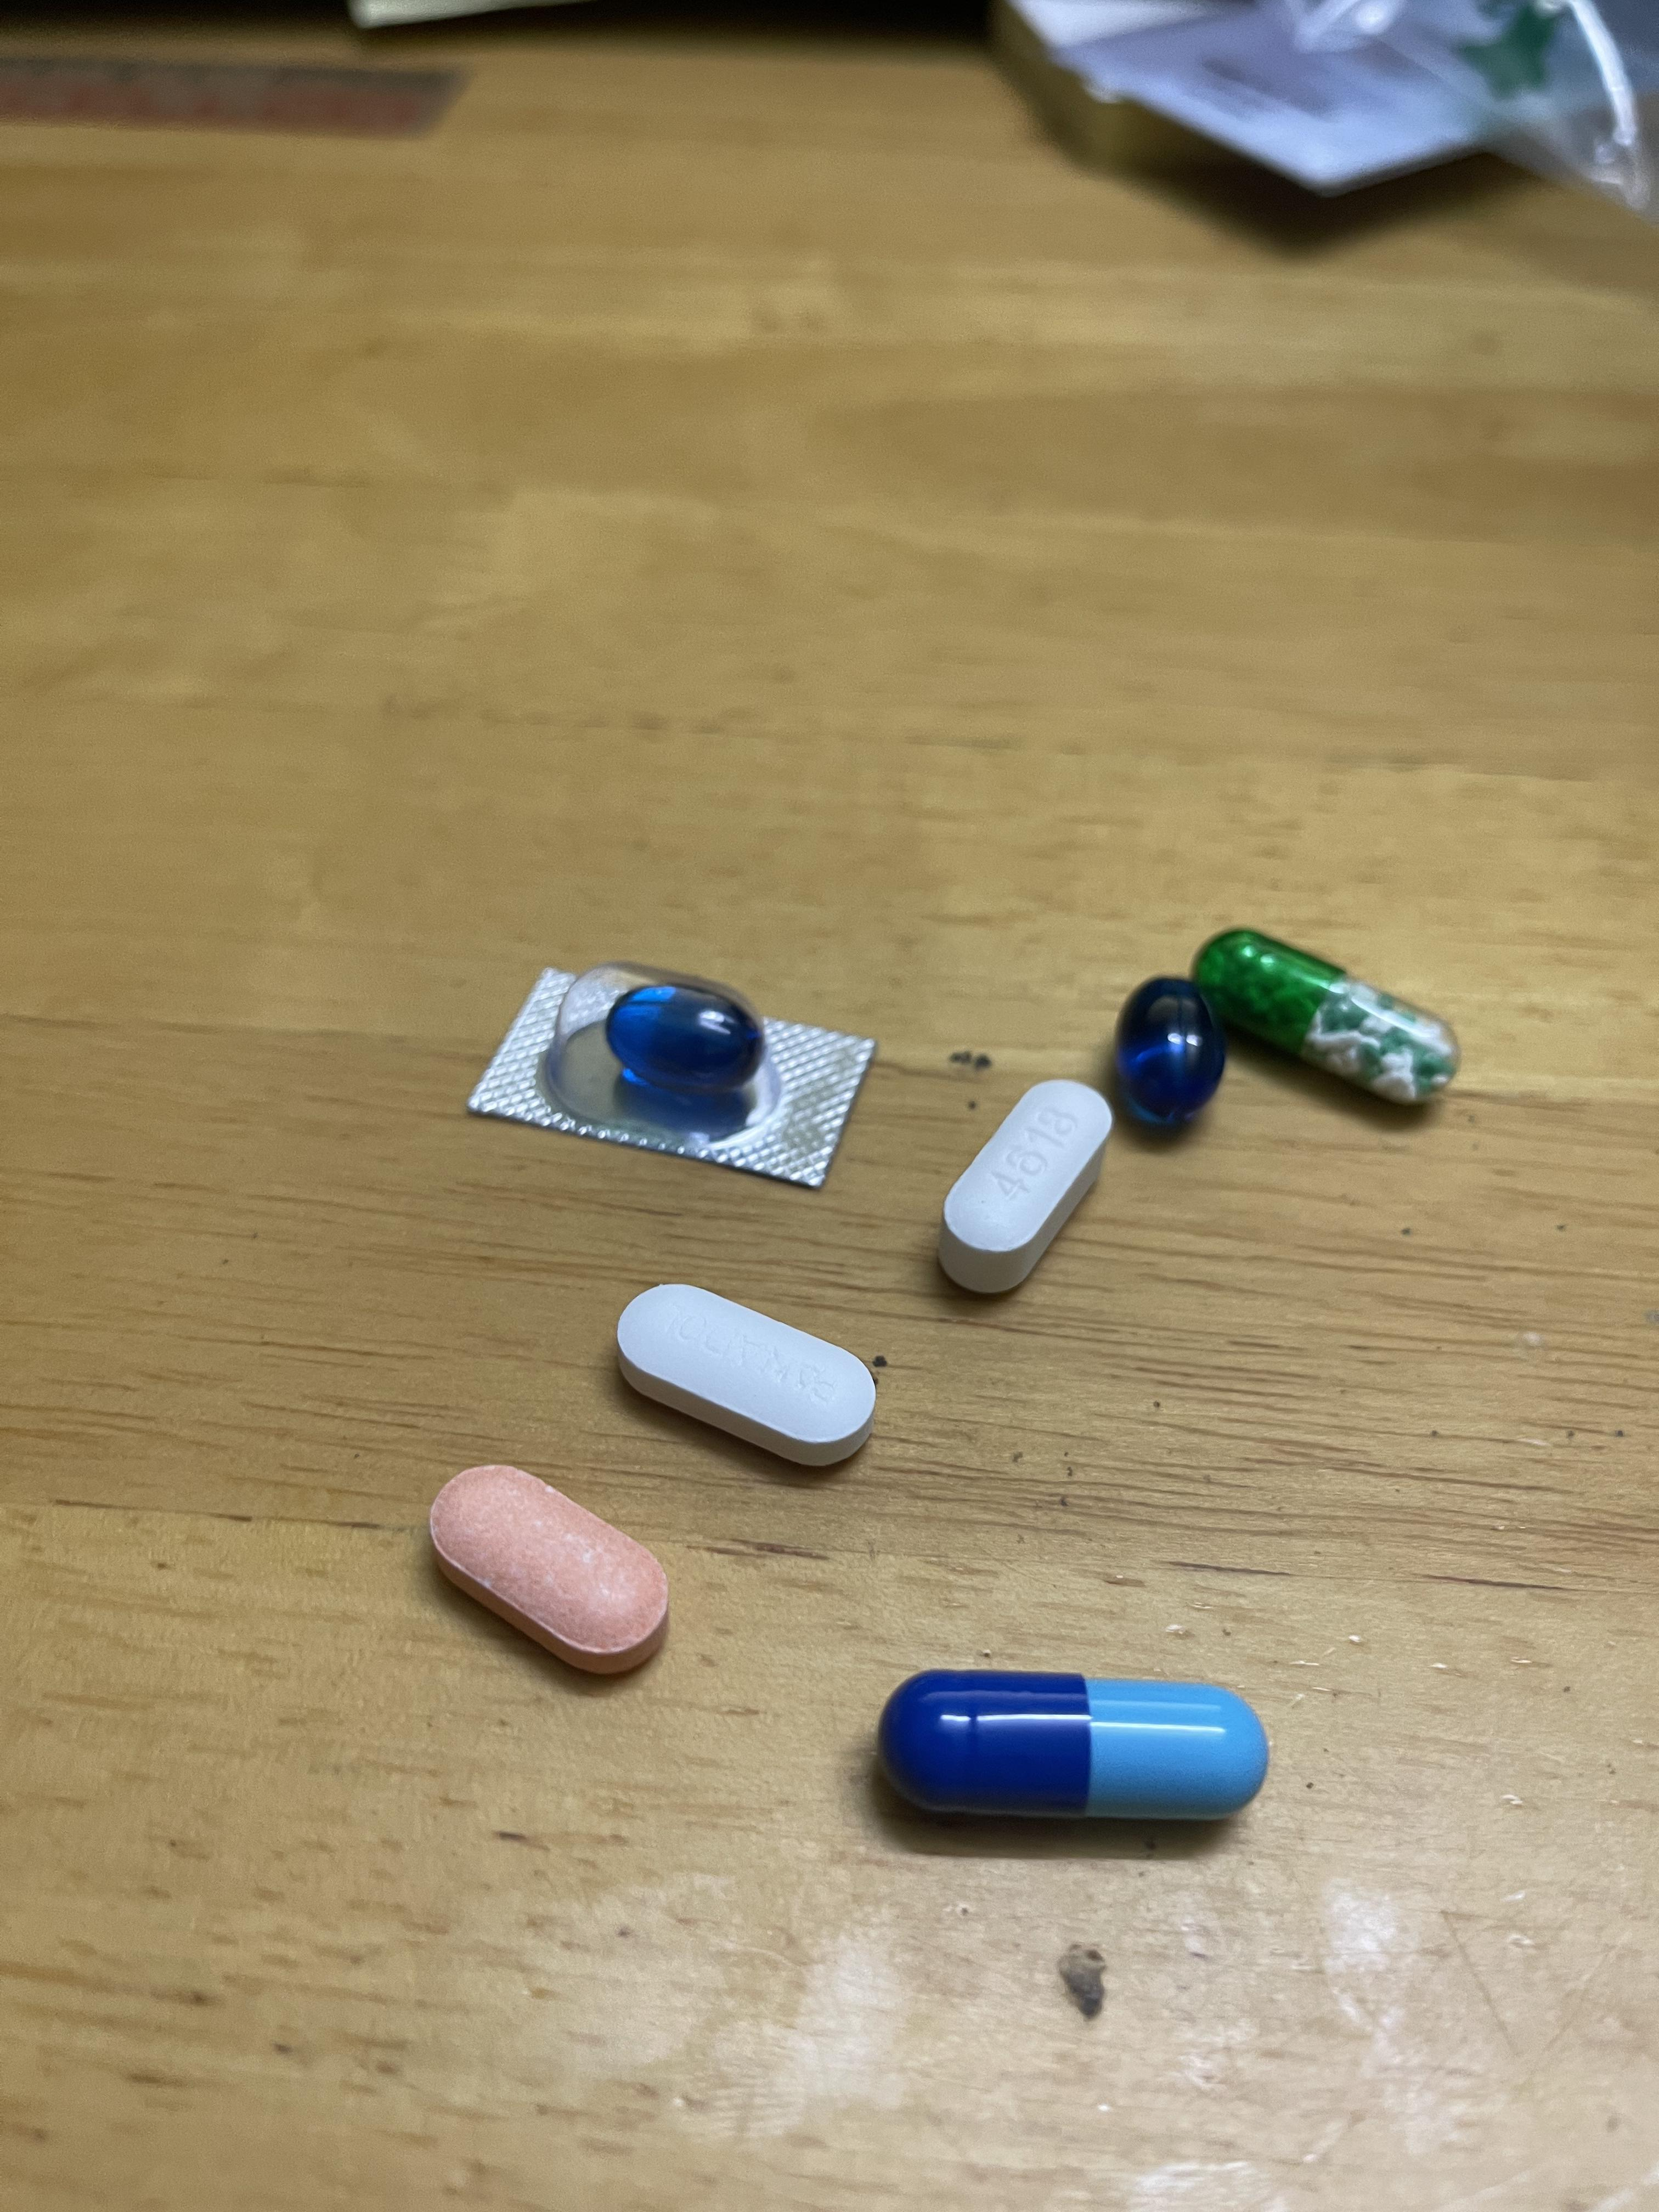Lincomyxin_500mg: (606, 979, 769, 1094), (1112, 977, 1220, 1127)
Loratadine_10mg: (427, 1465, 671, 1677)
Paracetamol_350mg: (617, 1285, 871, 1456)
Paracetamol_500mg: (941, 1075, 1112, 1261)
Paracetamol_650mg: (1195, 934, 1450, 1096)
pill: (901, 1679, 1258, 1813)
